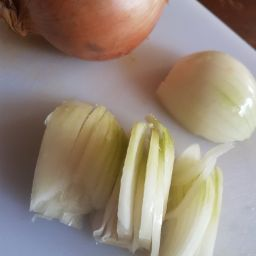Medium chopped onions: (28, 93, 231, 256), (147, 47, 256, 163), (50, 104, 132, 241), (2, 1, 172, 63), (168, 36, 256, 154)
